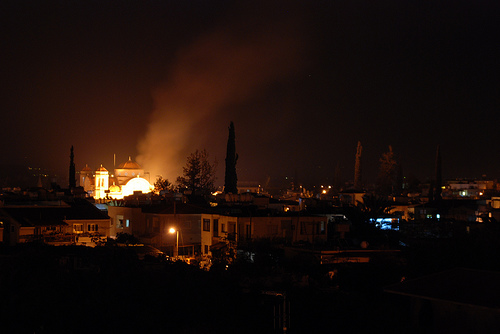fire: (78, 156, 163, 204)
